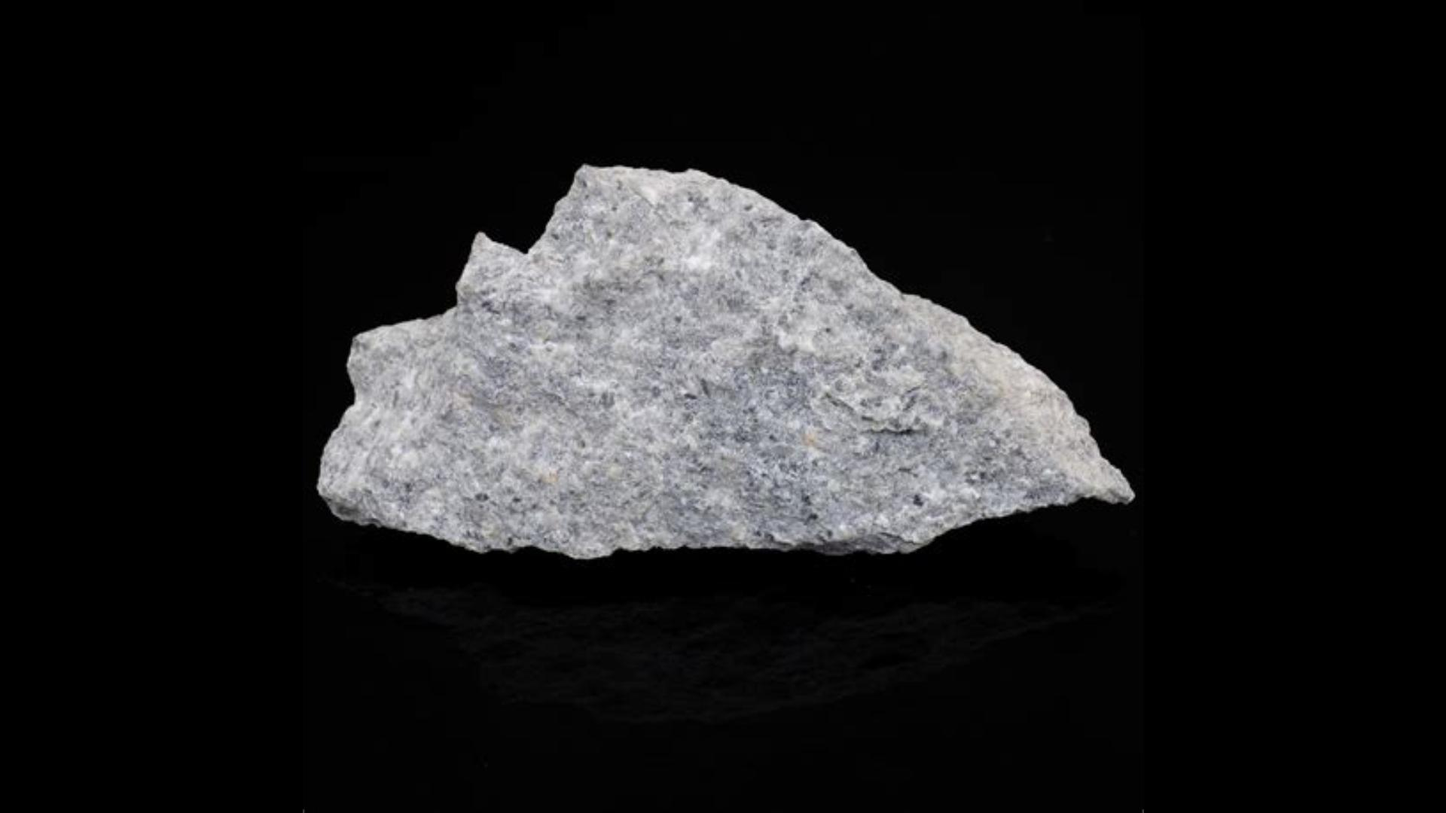rock: (318, 167, 1131, 557)
